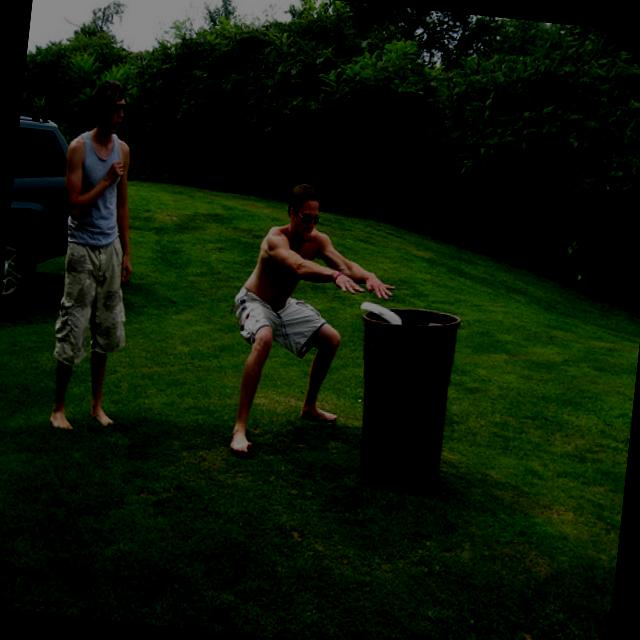Vehicle: (3, 110, 78, 276)
